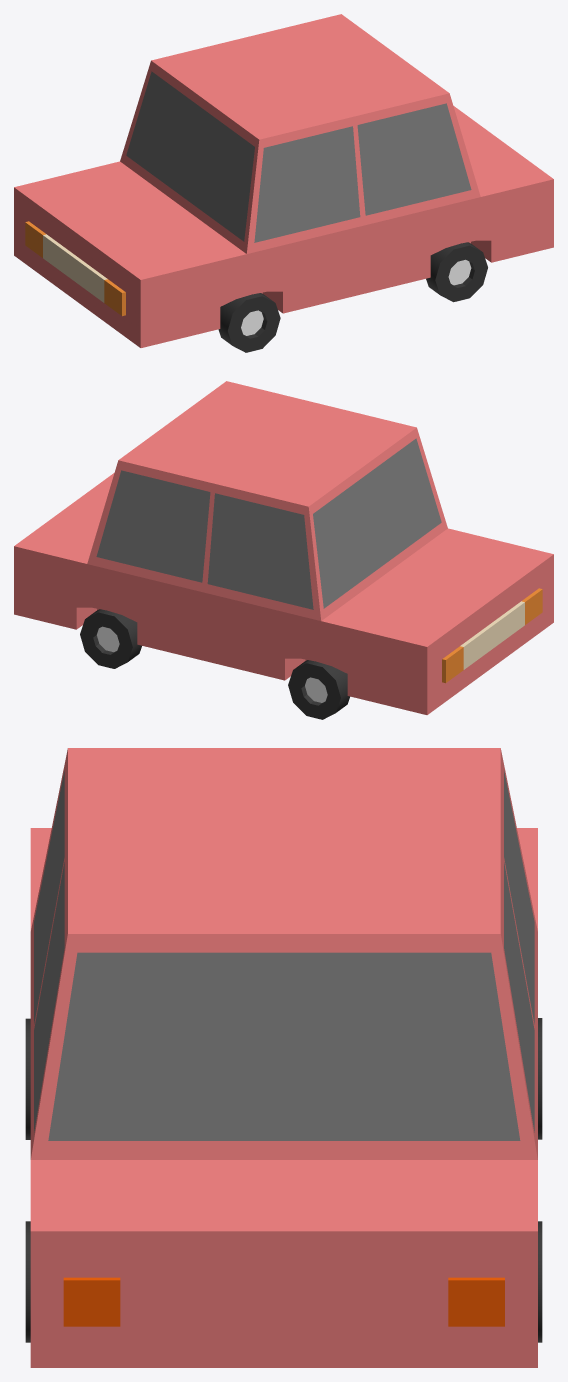
File: Car 02.FBX
3 renders of one model, top to bottom at view 1: azimuth 30°, elevation 25°; view 2: azimuth 150°, elevation 25°; view 3: azimuth 270°, elevation 25°, orthographic. The views are drawn at different scales.
Visible parts, largest first — view 1: Box001, Cylinder002, Cylinder001; view 2: Box001, Cylinder004, Cylinder003; view 3: Box001.
Part boxes in pixels (x1,y1,x2,y2): Box001: (14,14,553,347); Cylinder002: (218,293,280,352); Cylinder001: (426,242,487,302); Box001: (14,381,553,714); Cylinder004: (288,660,349,719); Cylinder003: (80,609,141,668); Box001: (30,748,537,1367).
Bounding box in the file's own units: 23.1 × 10.5 × 12.31.
